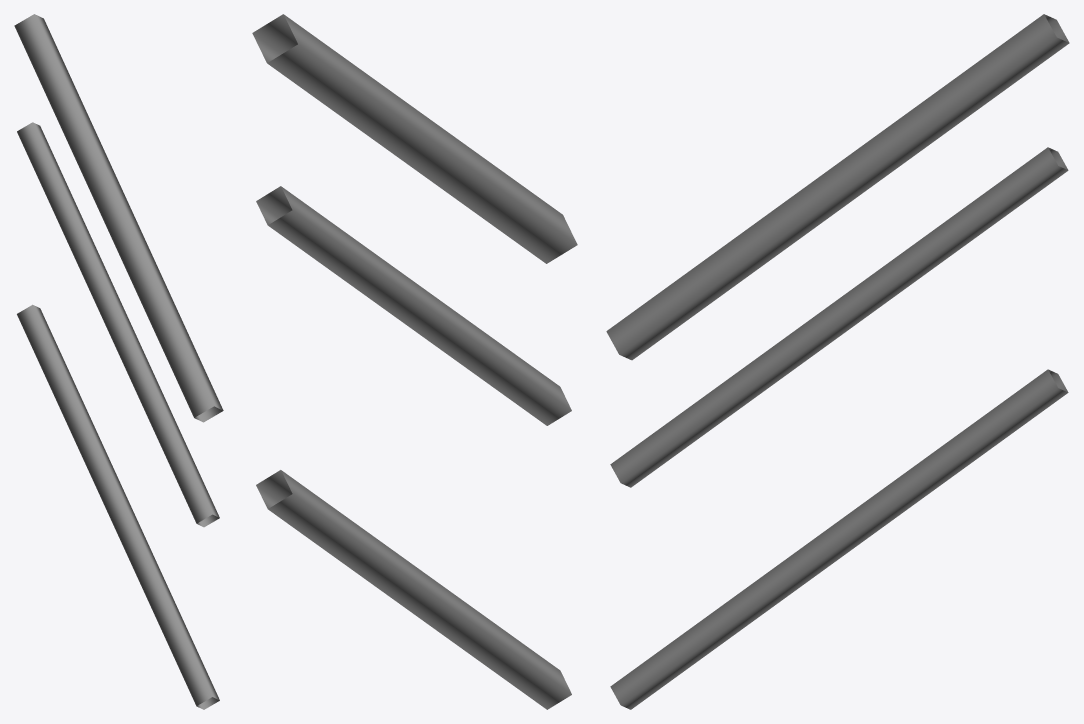
The model's file is SW_ENV_Railing_StairRails_03.fbx.
3 views of the same model, side by side, from view 1: azimuth 30°, elevation 25°; view 2: azimuth 150°, elevation 25°; view 3: azimuth 270°, elevation 25° (orthographic). The views are drawn at different scales.
Parts seen in each view (by area): view 1: SW_ENV_Railing_StairRails_03; view 2: SW_ENV_Railing_StairRails_03; view 3: SW_ENV_Railing_StairRails_03.
Part boxes in pixels (x1,y1,x2,y2): SW_ENV_Railing_StairRails_03: (14,14,223,709); SW_ENV_Railing_StairRails_03: (252,14,577,709); SW_ENV_Railing_StairRails_03: (606,14,1069,709).
Size of the model in its own units: 0.0712 by 1.32 by 0.7942.
